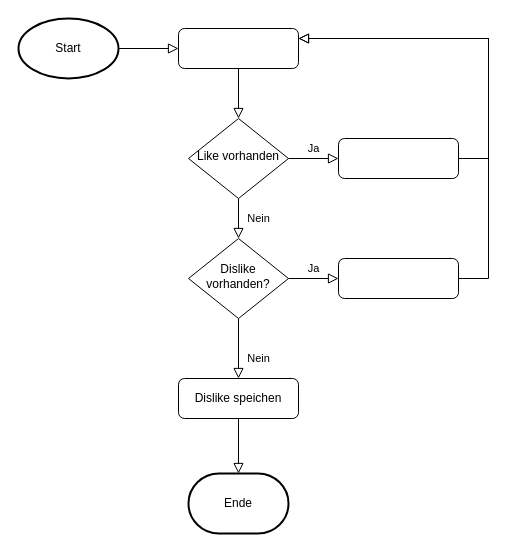
Some shapes in this 516 by 551 pixel diagram are drawn without their labels. Each missing label, with the centre of its shape:
"Dislike abgeben" goes at point (238, 48).
"Dislike nicht abgeben" goes at point (398, 278).
"Like entfernen" goes at point (398, 158).
